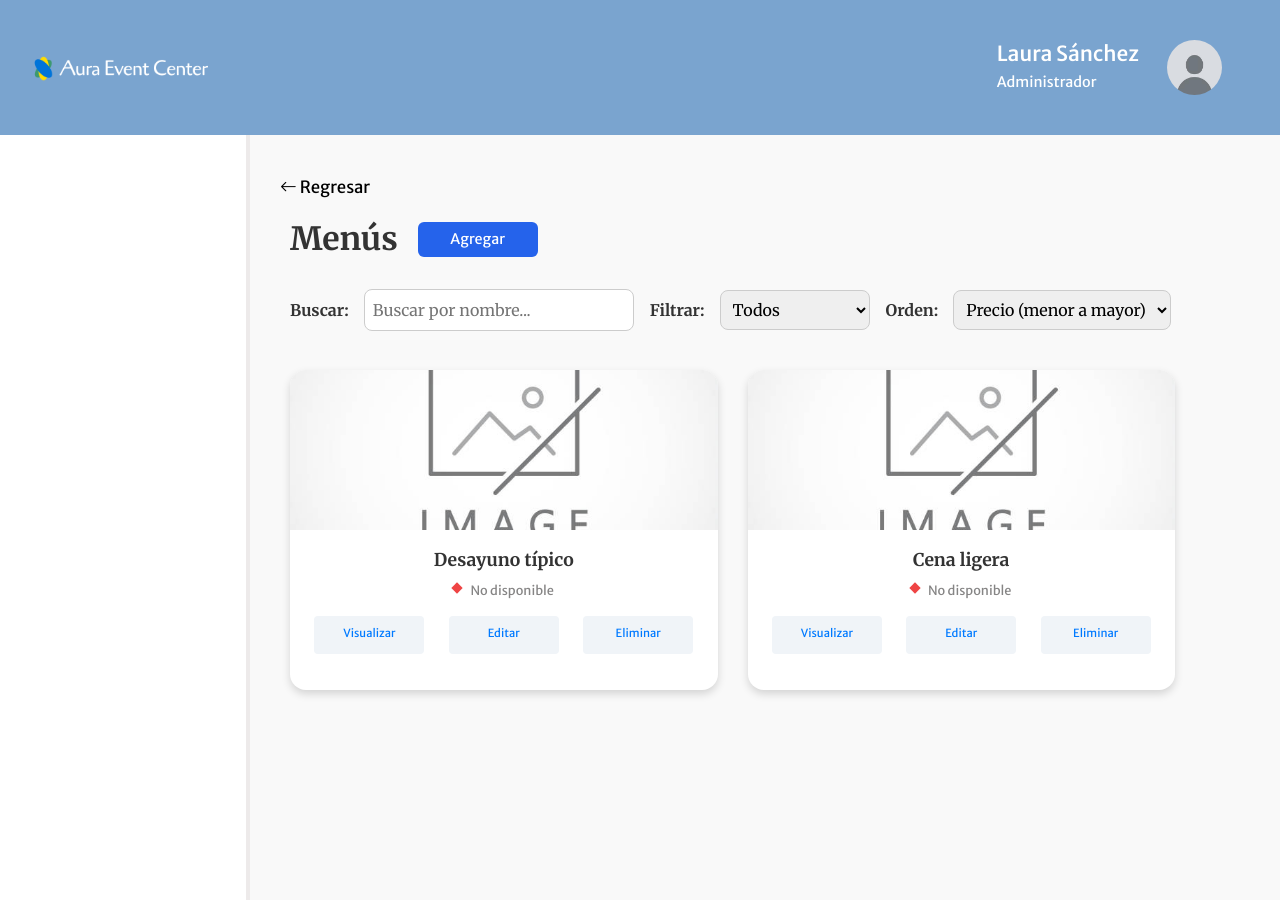
MenusAdmin - Integración › Filtra correctamente los menús por nombre
Expected: the heading "Desayuno típico" is shown, [434, 549, 574, 571]
Expected: the heading "Cena ligera" is shown, [913, 549, 1009, 571]
Note: Simula búsqueda
Type "cena" into the field with placeholder "Buscar por nombre...". click: x=499, y=310
box: [364, 289, 634, 331]
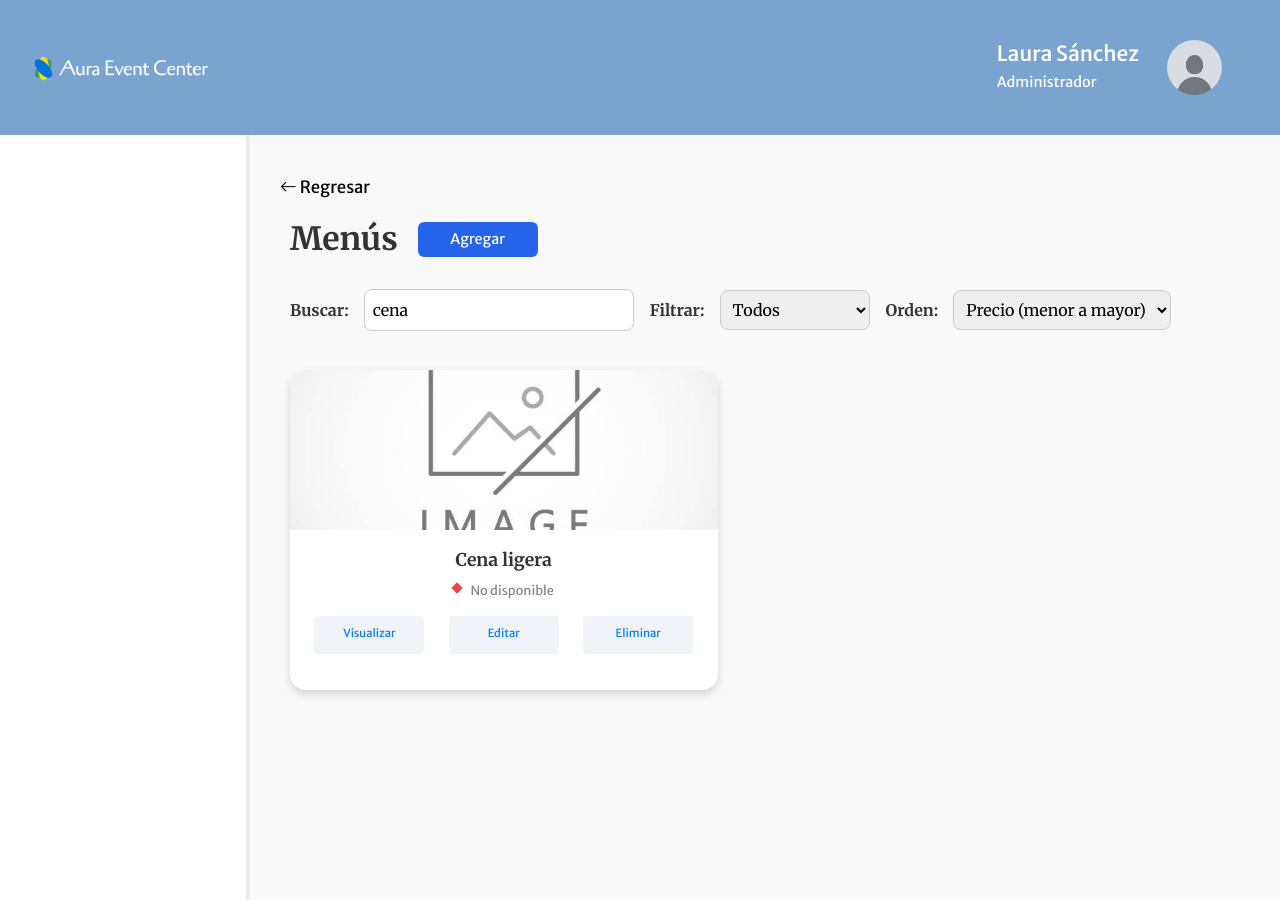
Expected: the heading "Cena ligera" is shown, [456, 549, 552, 571]
Result: the heading "Desayuno típico" is gone
